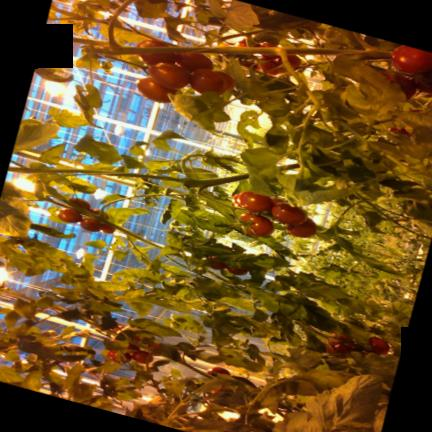MainStem: (42, 32, 392, 58), (8, 166, 247, 187), (62, 198, 162, 248), (178, 359, 213, 378)
tomato: (147, 61, 190, 88), (391, 44, 432, 72), (136, 76, 175, 101), (189, 67, 226, 93), (137, 39, 175, 64), (383, 72, 416, 97), (239, 212, 273, 235), (271, 201, 306, 223), (236, 190, 273, 210), (175, 52, 212, 71), (286, 217, 316, 236), (213, 69, 234, 90), (255, 59, 284, 74), (367, 336, 389, 354), (57, 207, 81, 222), (326, 338, 351, 352), (79, 217, 102, 231), (106, 349, 130, 362), (276, 54, 300, 67), (131, 350, 152, 363), (206, 365, 229, 376), (68, 197, 89, 209), (226, 266, 247, 274), (100, 223, 114, 233), (232, 192, 241, 206), (270, 196, 284, 203), (148, 343, 161, 350), (88, 207, 100, 213), (111, 326, 120, 331)
